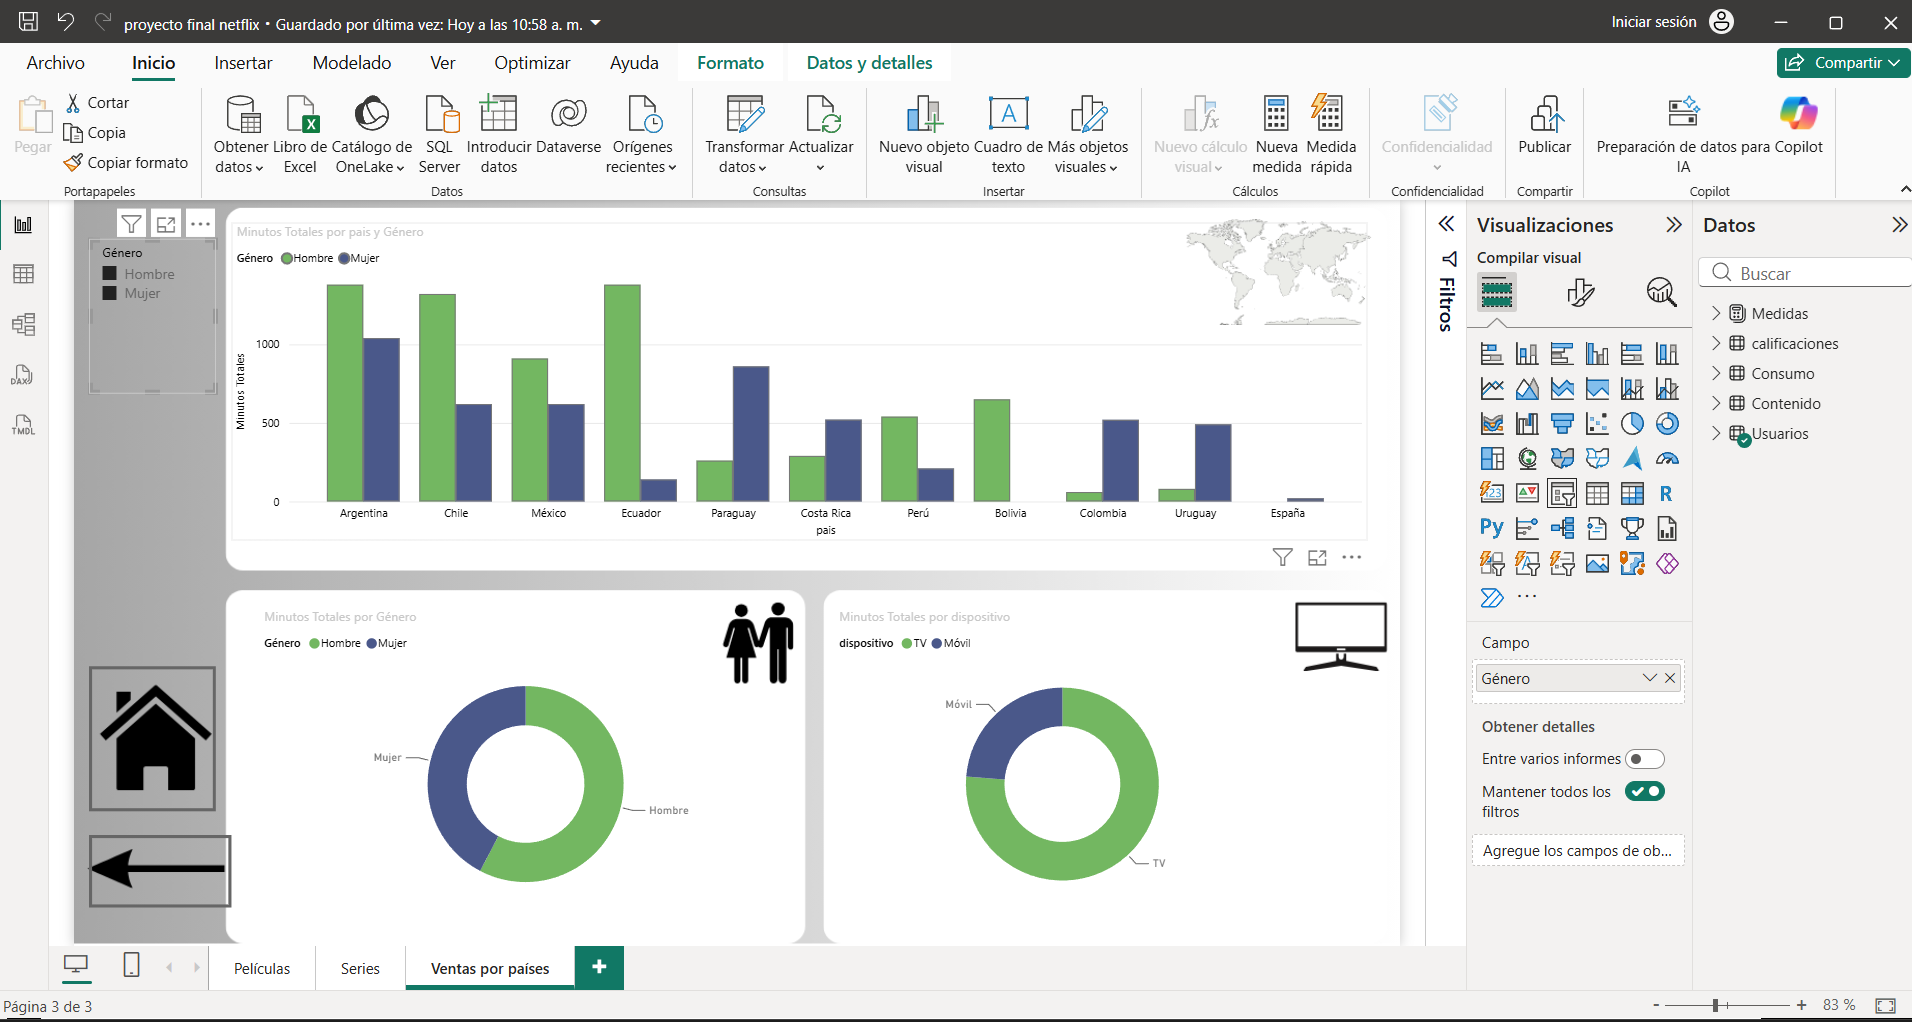

The dashboard page shown, as its layout file describes it:
{"tool":"powerbi","page":{"name":"Ventas por países","canvas":[1280,720],"ordinal":2},"visuals":[{"type":"donutChart","fields":{"Y":["Medidas.Minutos Totales"],"Category":["Usuarios.Género"]},"box":[178.8,393.8,515,297.5],"z":0},{"type":"donutChart","fields":{"Y":["Medidas.Minutos Totales"],"Category":["Consumo.dispositivo"]},"box":[733.8,393.8,441.2,297.5],"z":1000},{"type":"clusteredColumnChart","fields":{"Y":["Medidas.Minutos Totales"],"Category":["Usuarios.pais"],"Series":["Usuarios.Género"]},"box":[152.5,21.2,1096.2,307.5],"z":2000},{"type":"actionButton","box":[15,450,122.5,140],"z":3000},{"type":"actionButton","box":[15,612.5,137.5,70],"z":4000},{"type":"slicer","fields":{"Values":["Usuarios.Género"]},"box":[14.5,37.4,123.1,149.6],"z":4001}]}

Visuals, with their boxes on the page's 1280x720 design canvas (x1, y1, x2, y2). These are canvas units, not pixel positions in the 1912x1022 screenshot, which may show the page scaled, cropped or inside an application window:
donutChart - Medidas.Minutos Totales x Usuarios.Género: crop(179, 394, 694, 691)
donutChart - Medidas.Minutos Totales x Consumo.dispositivo: crop(734, 394, 1175, 691)
clusteredColumnChart - Medidas.Minutos Totales x Usuarios.pais: crop(152, 21, 1249, 329)
actionButton: crop(15, 450, 138, 590)
actionButton: crop(15, 612, 152, 682)
slicer - Usuarios.Género: crop(14, 37, 138, 187)
